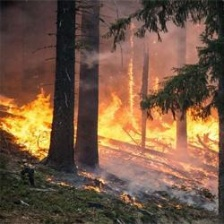fire: (5, 55, 222, 175)
